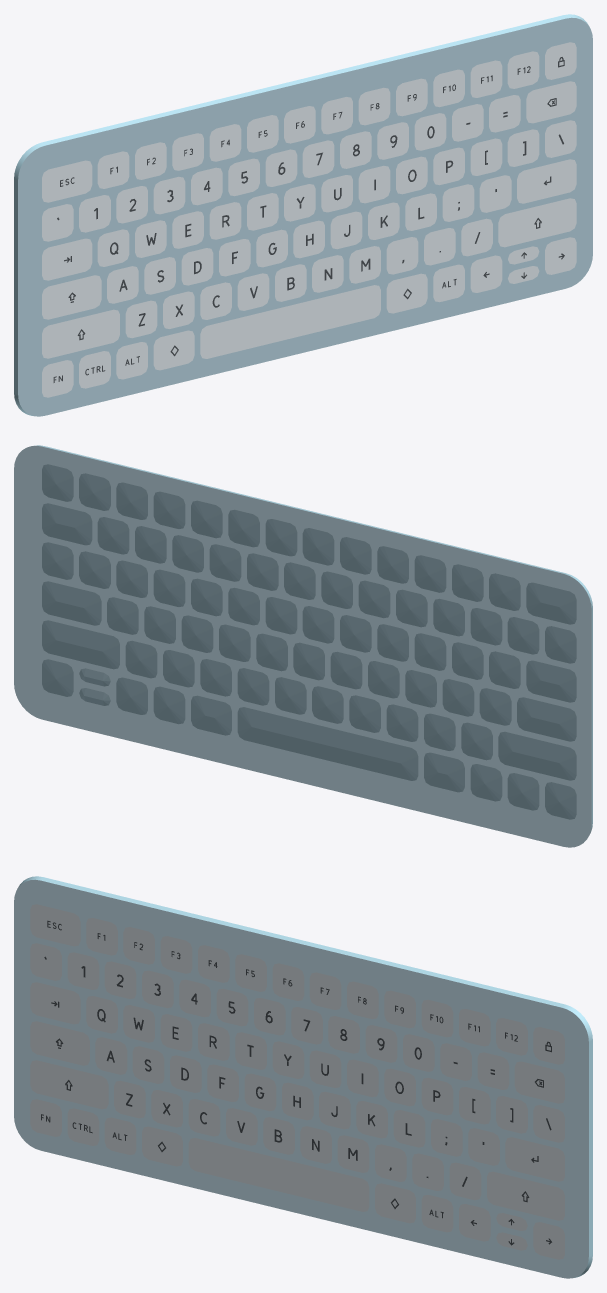
Rendered from floating-keyboard-b29cb8.glb.
3 views of the same model, one above another, from view 1: azimuth 30°, elevation 25°; view 2: azimuth 150°, elevation 25°; view 3: azimuth 330°, elevation 25° (orthographic).
Visible parts, largest first — view 1: keys, glass, corner-keys, rim, legends; view 2: glass, keys, corner-keys, rim; view 3: keys, glass, corner-keys, rim, legends.
Boxes of the visible parts, bbox=[...] form: keys: bbox=[42, 78, 576, 397]; glass: bbox=[18, 17, 592, 416]; corner-keys: bbox=[433, 42, 576, 141]; rim: bbox=[14, 14, 590, 415]; legends: bbox=[53, 57, 564, 382]; glass: bbox=[14, 445, 591, 847]; keys: bbox=[42, 501, 575, 818]; corner-keys: bbox=[42, 465, 184, 562]; rim: bbox=[34, 445, 592, 833]; keys: bbox=[30, 904, 564, 1259]; glass: bbox=[14, 879, 588, 1278]; corner-keys: bbox=[421, 999, 564, 1103]; rim: bbox=[16, 876, 592, 1277]; legends: bbox=[41, 920, 551, 1245].
Size of the model in its own units: 0.62 by 0.28 by 0.013.
